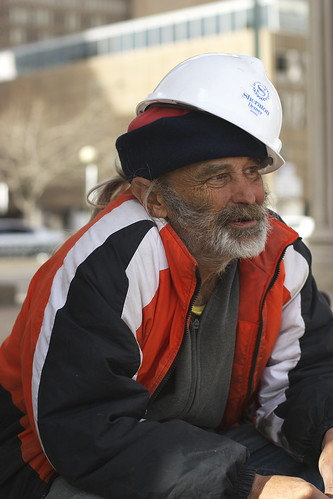person hardhat: (1, 50, 328, 499)
